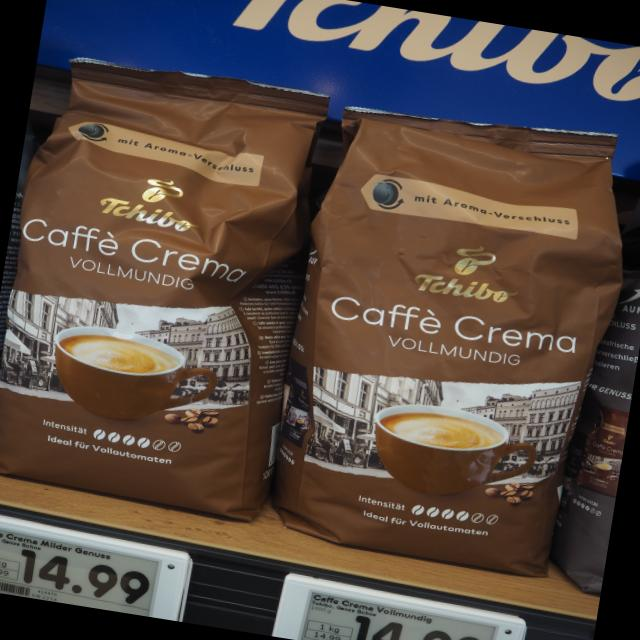CC Vollmundig 36 Pads: (256, 83, 640, 588), (0, 43, 338, 531)
